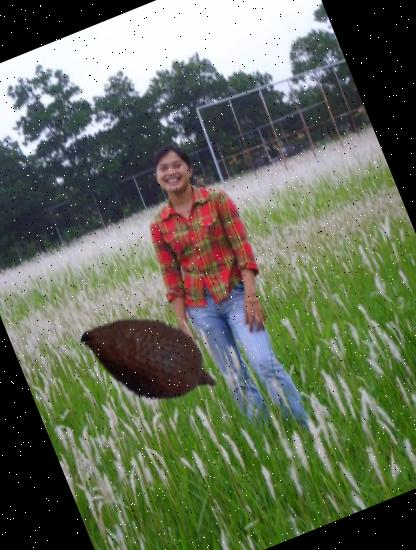Salak: (57, 264, 244, 451)
